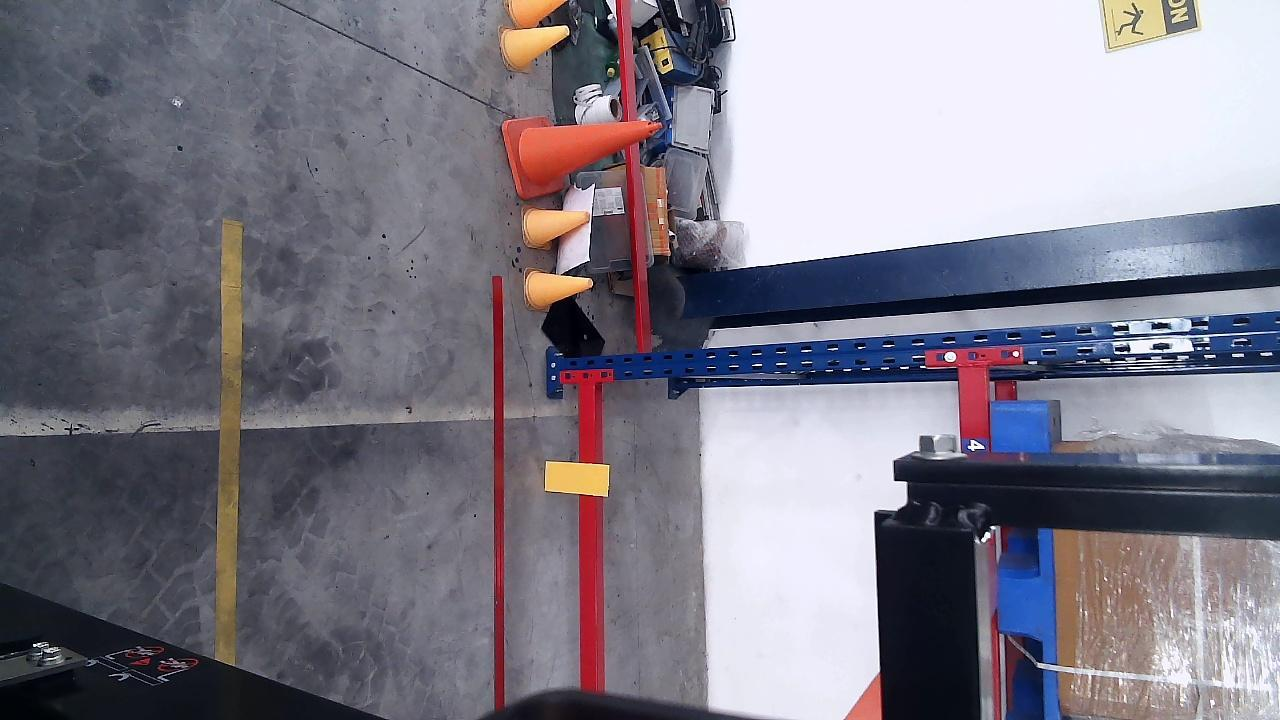h_rack: (578, 383, 596, 688)
orange_strip: (545, 461, 605, 495)
red_line: (490, 276, 507, 706)
small_pallet: (990, 403, 1061, 720)
yellow_line: (216, 218, 243, 664)
